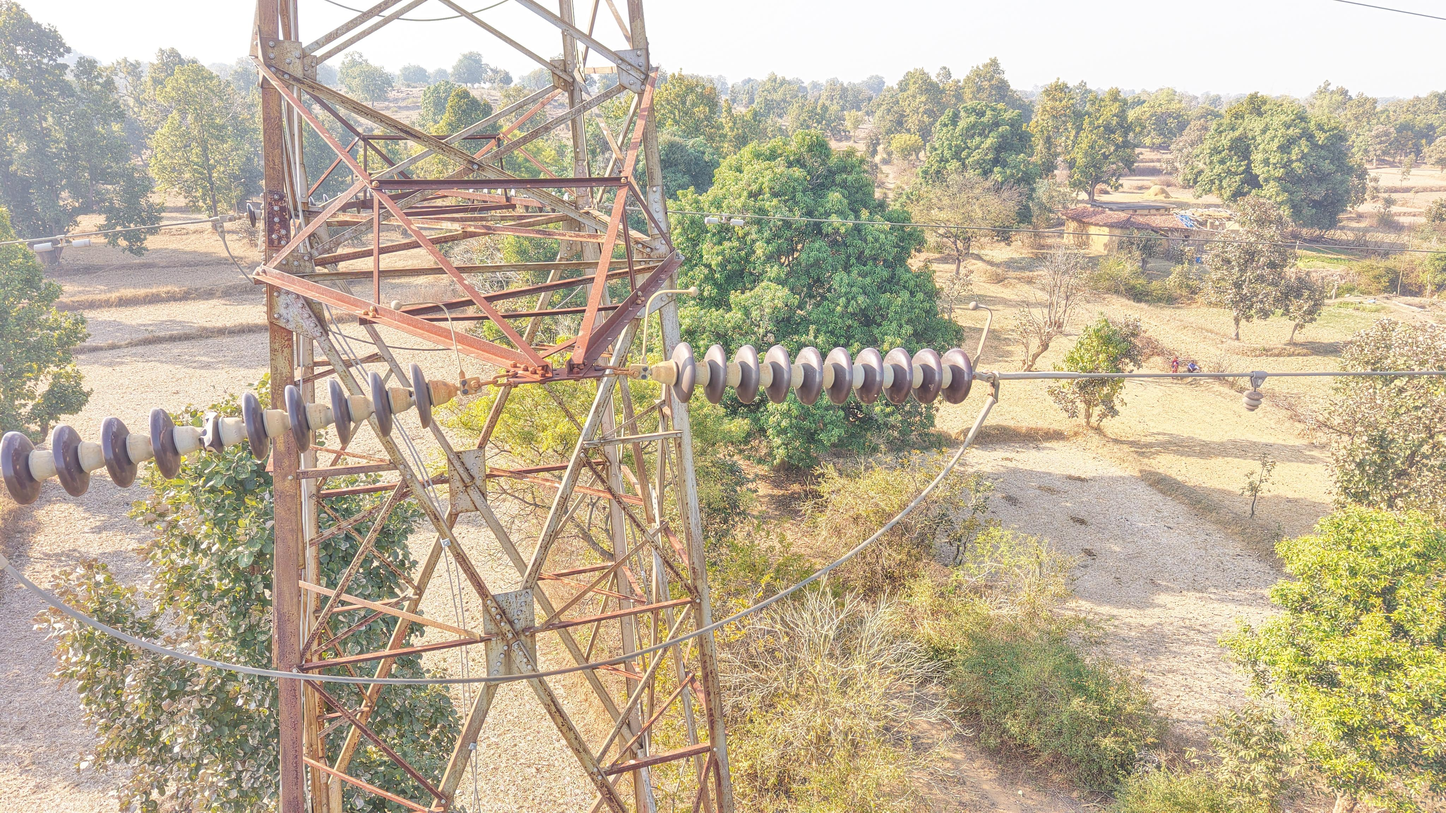broken_insulator: (187, 403, 233, 462)
